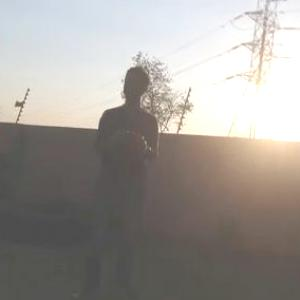follow: (73, 57, 165, 292)
